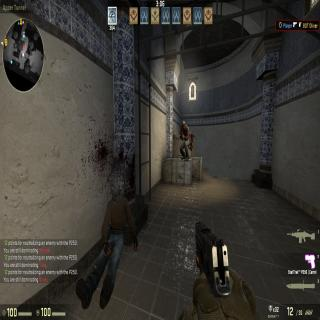T-Body: (178, 118, 190, 162)
T-Head: (182, 119, 186, 129)
